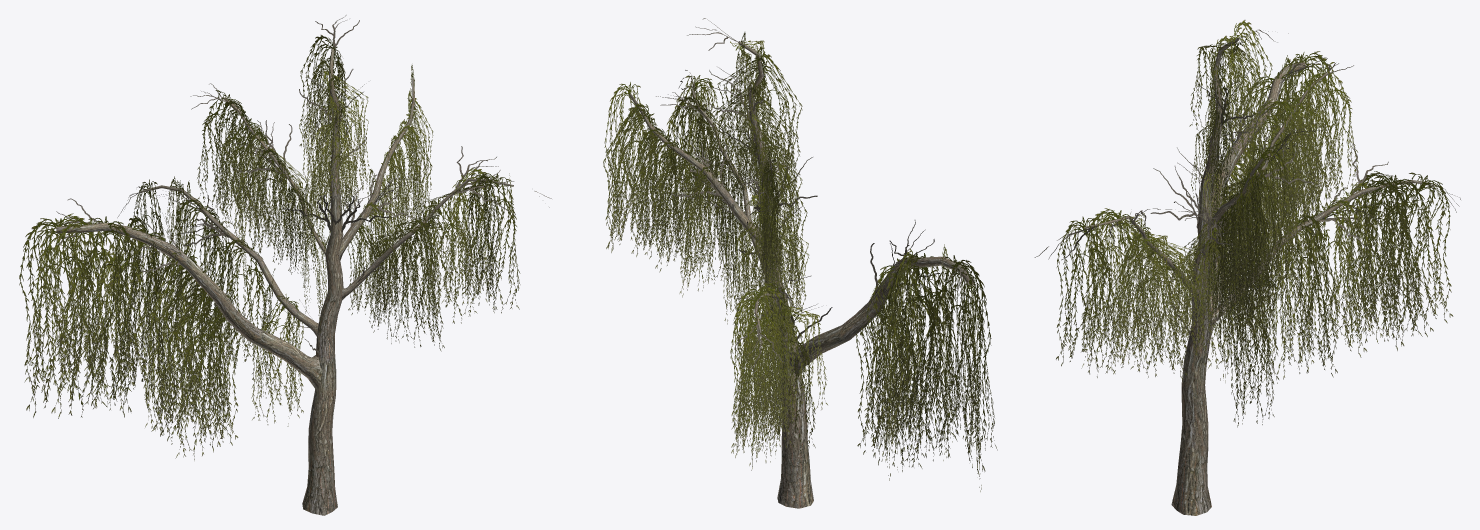
3 renders of one model, left to right at view 1: azimuth 30°, elevation 25°; view 2: azimuth 150°, elevation 25°; view 3: azimuth 270°, elevation 25°, orthographic. The views are drawn at different scales.
Visible parts, largest first — view 1: Weeping_willow_15_Weeping_Willow_Leaf_Fall_Mat_0, Weeping_willow_15_Weeping_Willow_Bark_Mat_0, Weeping_willow_15_Weeping_Willow_Branches_Mat_0; view 2: Weeping_willow_15_Weeping_Willow_Leaf_Fall_Mat_0, Weeping_willow_15_Weeping_Willow_Bark_Mat_0, Weeping_willow_15_Weeping_Willow_Branches_Mat_0; view 3: Weeping_willow_15_Weeping_Willow_Leaf_Fall_Mat_0, Weeping_willow_15_Weeping_Willow_Bark_Mat_0, Weeping_willow_15_Weeping_Willow_Branches_Mat_0.
Part boxes in pixels (left/top/right/bottom): Weeping_willow_15_Weeping_Willow_Leaf_Fall_Mat_0: left=19, top=35, right=520, bottom=460; Weeping_willow_15_Weeping_Willow_Bark_Mat_0: left=56, top=47, right=513, bottom=515; Weeping_willow_15_Weeping_Willow_Branches_Mat_0: left=46, top=15, right=551, bottom=358; Weeping_willow_15_Weeping_Willow_Leaf_Fall_Mat_0: left=603, top=32, right=997, bottom=491; Weeping_willow_15_Weeping_Willow_Bark_Mat_0: left=629, top=41, right=974, bottom=508; Weeping_willow_15_Weeping_Willow_Branches_Mat_0: left=656, top=18, right=985, bottom=372; Weeping_willow_15_Weeping_Willow_Leaf_Fall_Mat_0: left=1056, top=20, right=1453, bottom=427; Weeping_willow_15_Weeping_Willow_Bark_Mat_0: left=1084, top=38, right=1431, bottom=515; Weeping_willow_15_Weeping_Willow_Branches_Mat_0: left=1034, top=29, right=1460, bottom=334.
Bounding box in the file's own units: 11.72 × 12 × 9.31.
3 materials, 3 textured.
